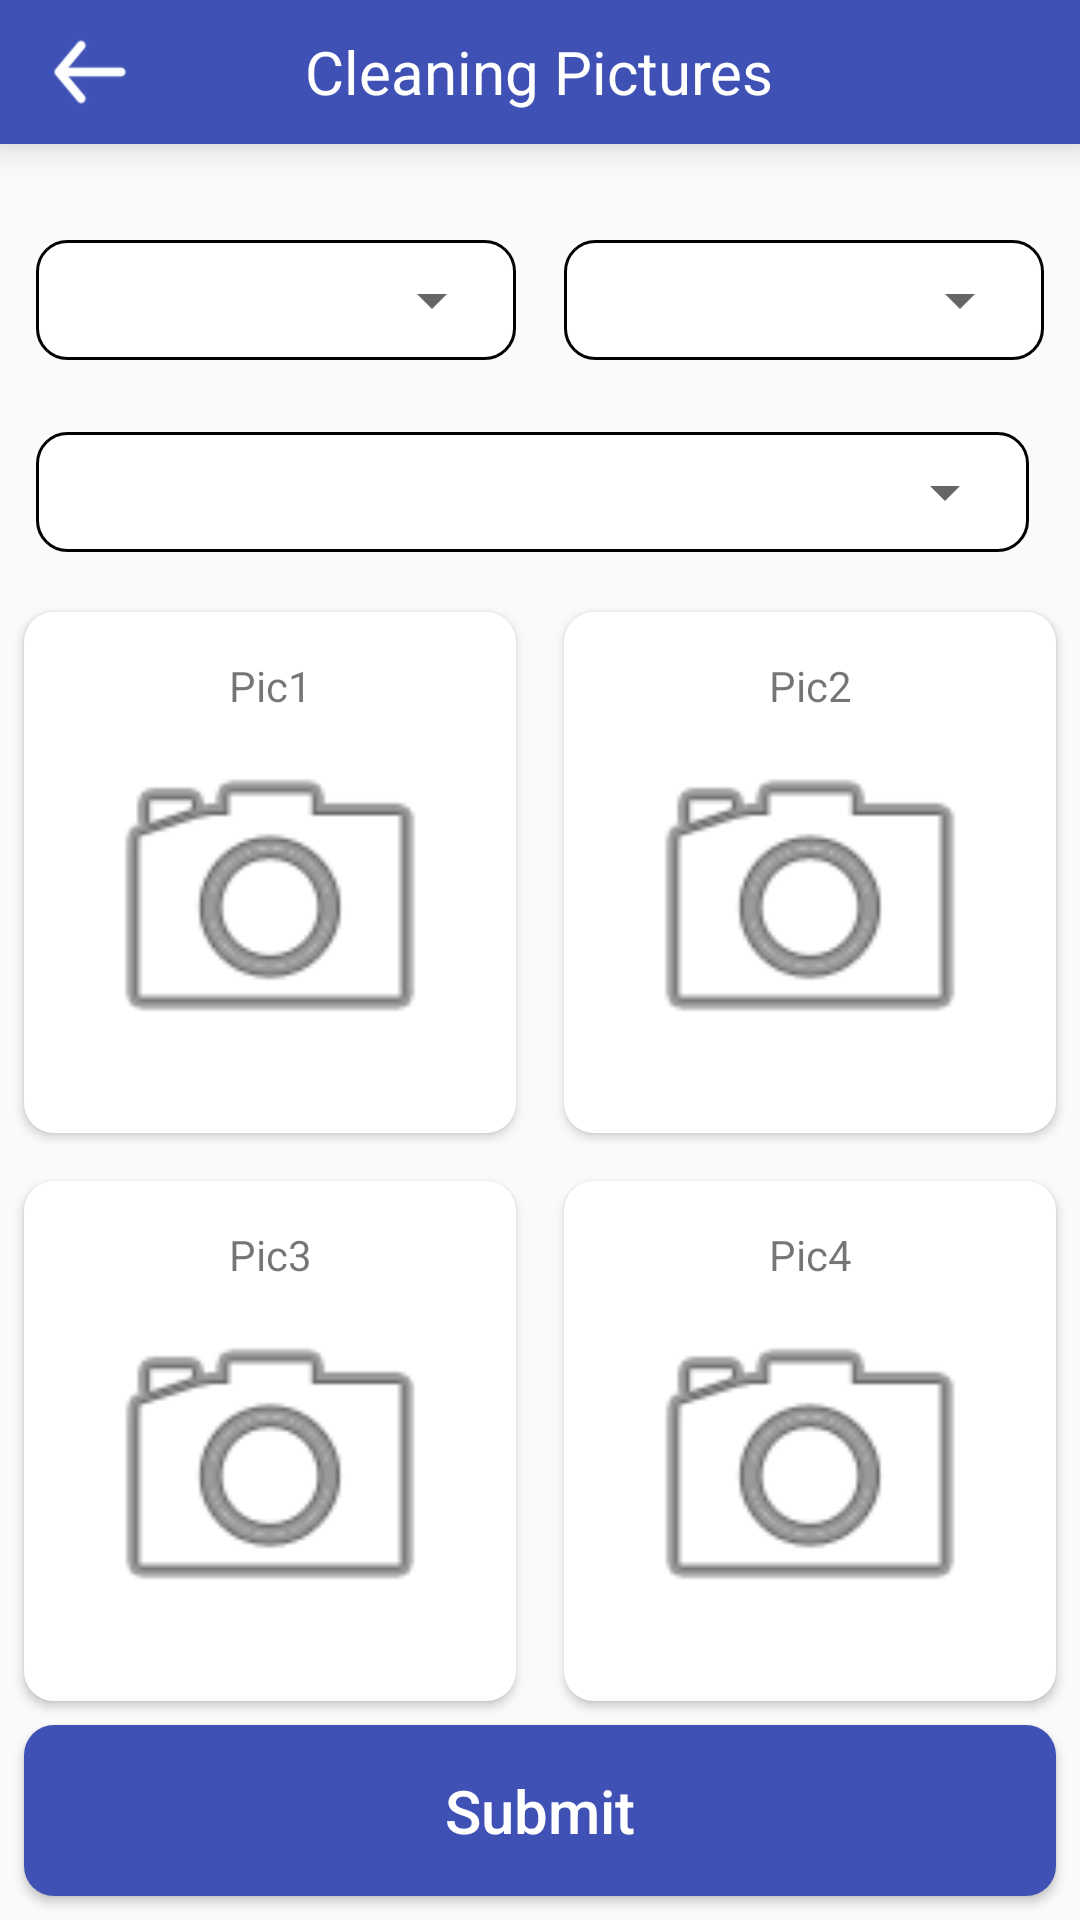

Locate icon controls on the screen. Image size 1080w x 1920h, boxes as (x1, y1, x2, y2).
back: (54, 40, 126, 104)
camera: (125, 780, 415, 1011), (665, 780, 955, 1011), (126, 1349, 414, 1579), (666, 1349, 954, 1579)
